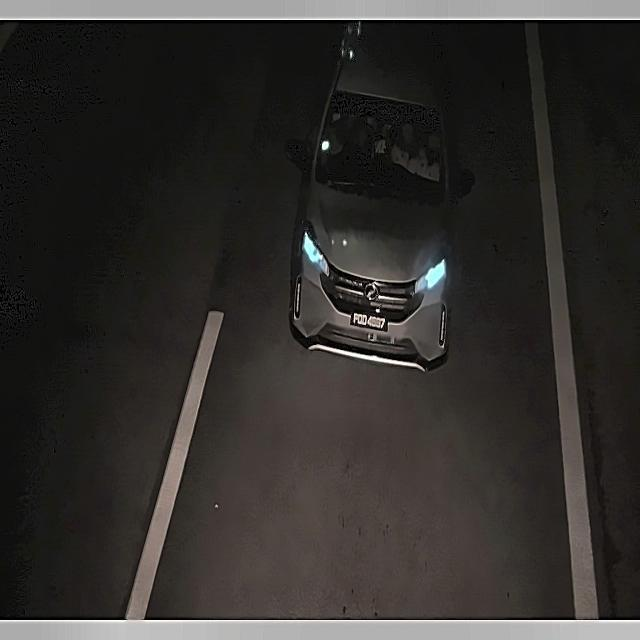car: (348, 303, 392, 339)
